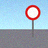sign: (25, 5, 40, 37)
